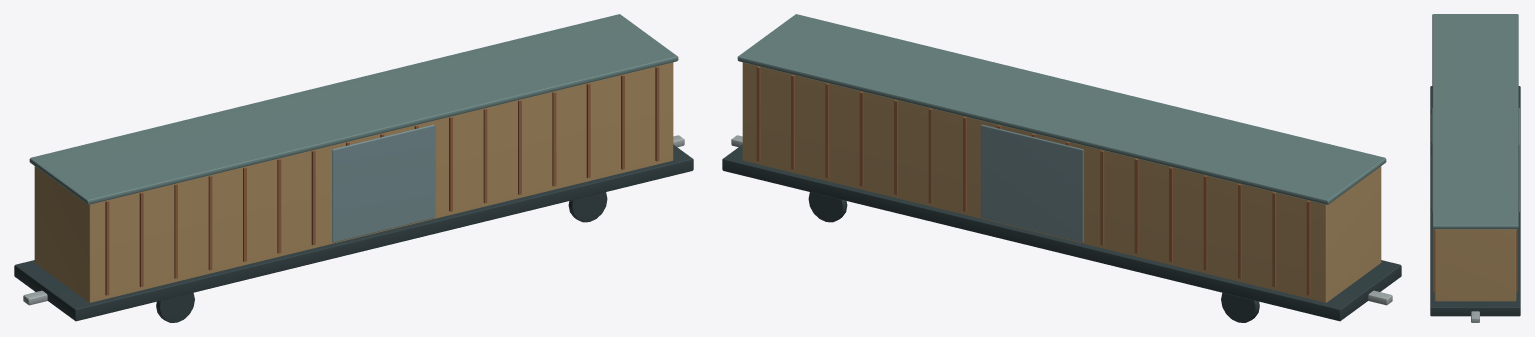
Rendered from RailWagon.glb.
3 views of the same model, side by side, from view 1: azimuth 30°, elevation 25°; view 2: azimuth 150°, elevation 25°; view 3: azimuth 270°, elevation 25° (orthographic). The views are drawn at different scales.
Parts seen in each view (by area): view 1: Freight box, Freight roof, Steel chassis, Sliding door, Wheel.002, Wheel; view 2: Freight box, Freight roof, Steel chassis, Sliding door.001, Wheel.003, Wheel.001; view 3: Freight roof, Freight box, Steel chassis, Sliding door, Sliding door.001, Wagon rib.032, Wagon rib.033, Coupler.001.
Boxes of the visible parts, box(x1,y1,x2,y2) form: Freight box: box(34, 62, 673, 302); Freight roof: box(29, 14, 678, 204); Steel chassis: box(14, 144, 693, 321); Sliding door: box(332, 124, 435, 242); Wheel.002: box(568, 192, 607, 222); Wheel: box(156, 292, 194, 322); Freight box: box(742, 62, 1381, 302); Freight roof: box(737, 14, 1386, 204); Steel chassis: box(722, 144, 1401, 321); Sliding door.001: box(980, 124, 1083, 242); Wheel.003: box(808, 192, 847, 222); Wheel.001: box(1221, 292, 1259, 322); Freight roof: box(1432, 14, 1518, 229); Freight box: box(1434, 229, 1516, 301); Steel chassis: box(1430, 86, 1520, 316); Sliding door: box(1431, 108, 1432, 212); Sliding door.001: box(1518, 108, 1519, 212); Wagon rib.032: box(1433, 229, 1434, 292); Wagon rib.033: box(1516, 229, 1517, 292); Coupler.001: box(1471, 311, 1479, 322).
Bounding box in the file's own units: 19.1 × 4.01 × 3.1.
